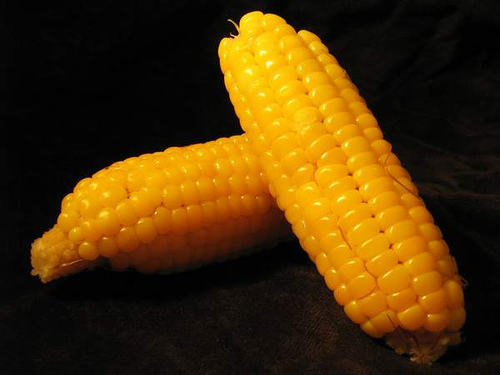corn: (215, 8, 464, 363), (29, 135, 293, 283)
